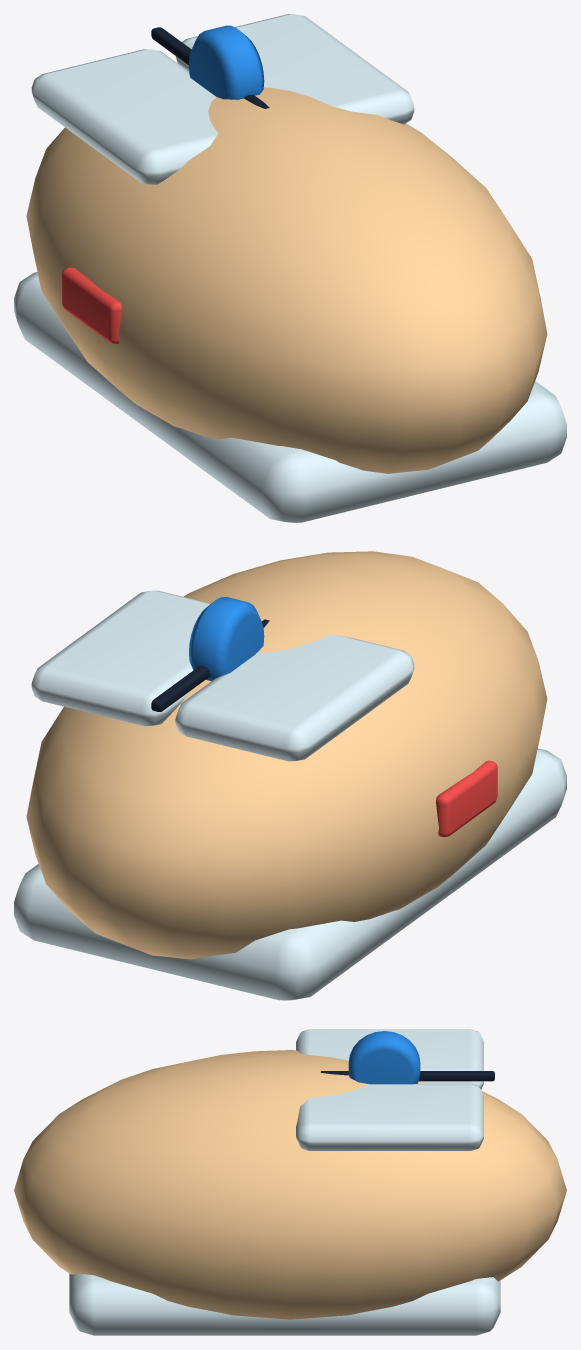
The model's file is mouse.glb.
The picture shows the model from 3 angles, top to bottom: view 1: azimuth 30°, elevation 25°; view 2: azimuth 150°, elevation 25°; view 3: azimuth 270°, elevation 25°; orthographic projection. The views are drawn at different scales.
Parts seen in each view (by area): view 1: mouse; view 2: mouse; view 3: mouse.
Boxes of the visible parts, x1,y1,x2,y2 form: mouse: (14, 14, 566, 522); mouse: (14, 551, 566, 1000); mouse: (14, 1029, 566, 1335).
Size of the model in its own units: 0.6255 by 0.55 by 1.
Materials: 1 (1 with a texture image).
